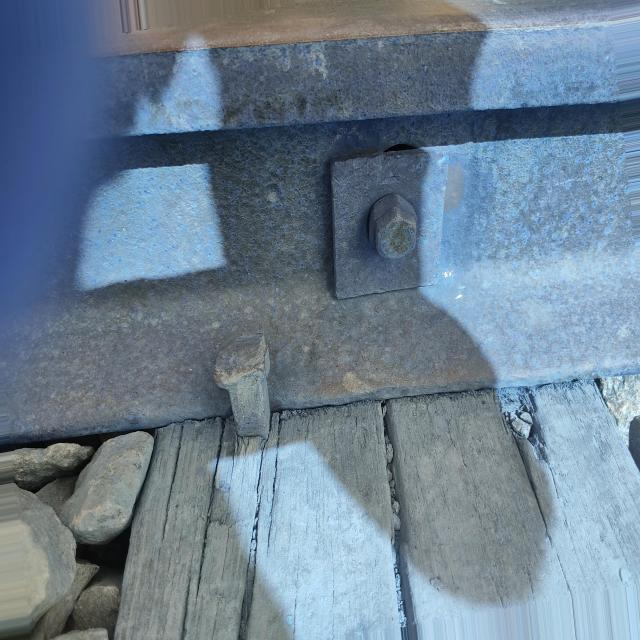Good Fasteners: (214, 334, 270, 438)
